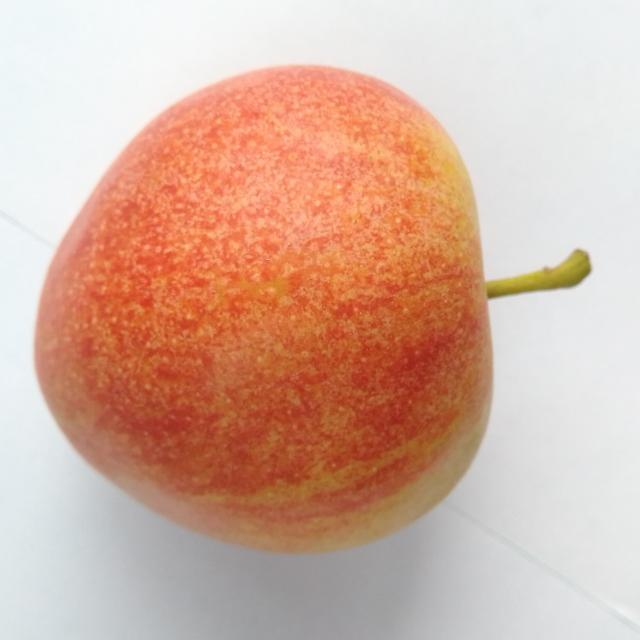Fresh Apple: (50, 77, 483, 580)
